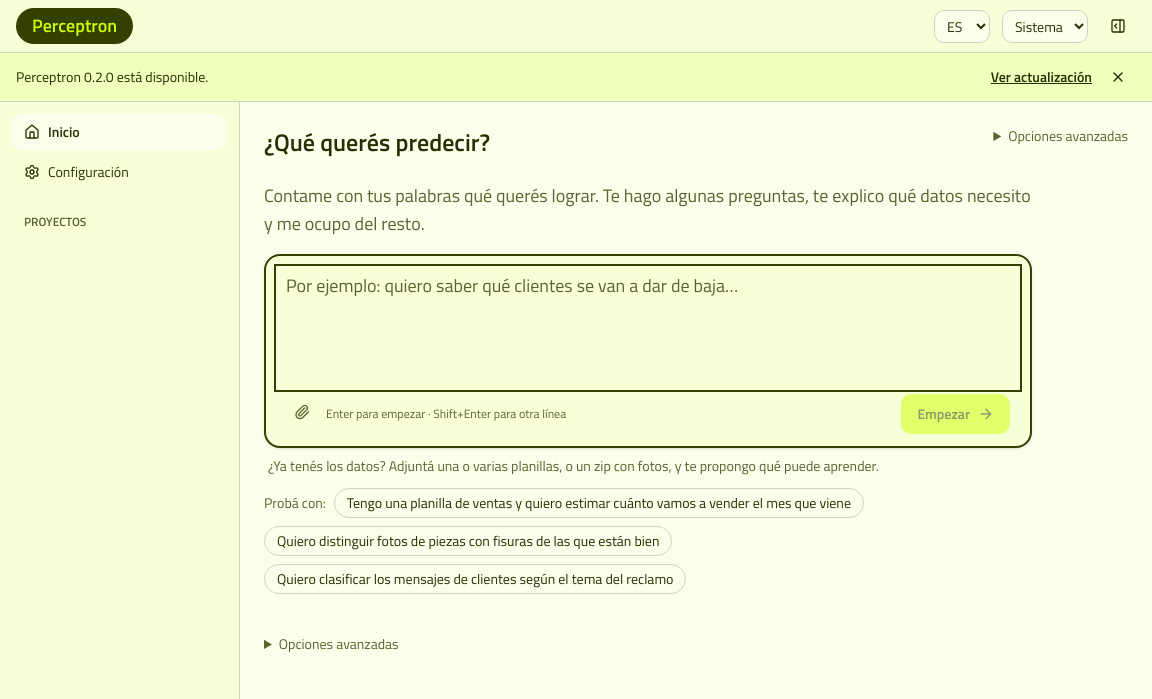
Test: actualizaciones del desktop (ADR-0037) › avisa en el encabezado al abrir la app y se puede descartar
Expected: the text "Perceptron 0.2.0 está disponible." is shown, 16,67 -> 208,87
Click the button named "Descartar aviso": click(1118, 77) 1100,59 -> 1136,95
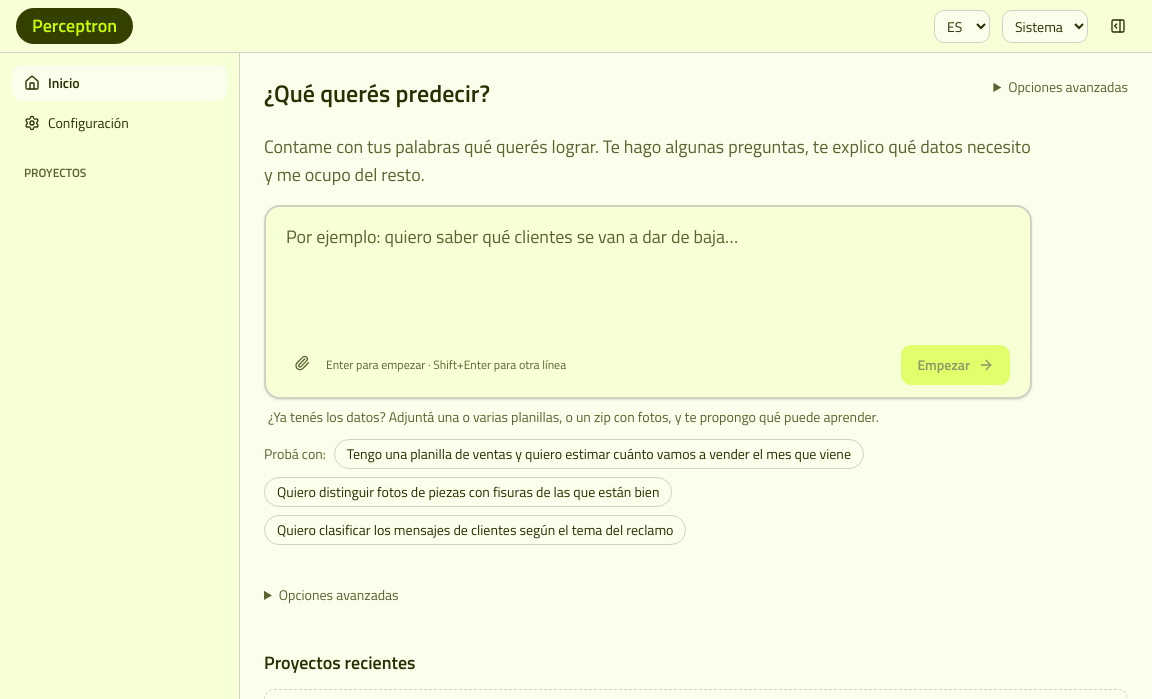
Result: the text "Perceptron 0.2.0 está disponible." is gone
